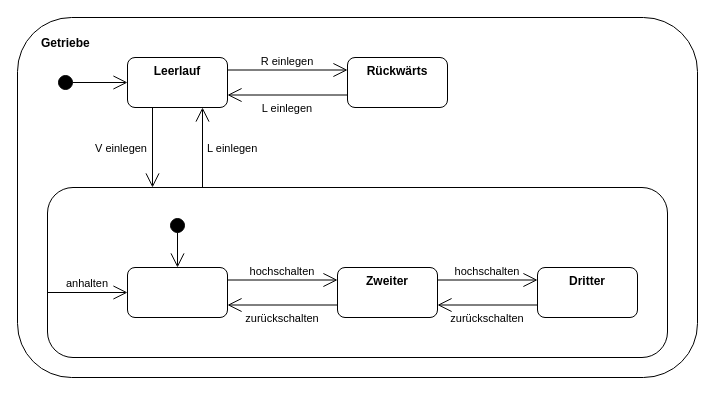
This 715x395 diagram has some shape labels left out. The box of each missing label's shape, as (x1, y1, x2, y2) in pixels:
Erster: (126, 266, 228, 318)
Vorwärts: (46, 186, 668, 358)
